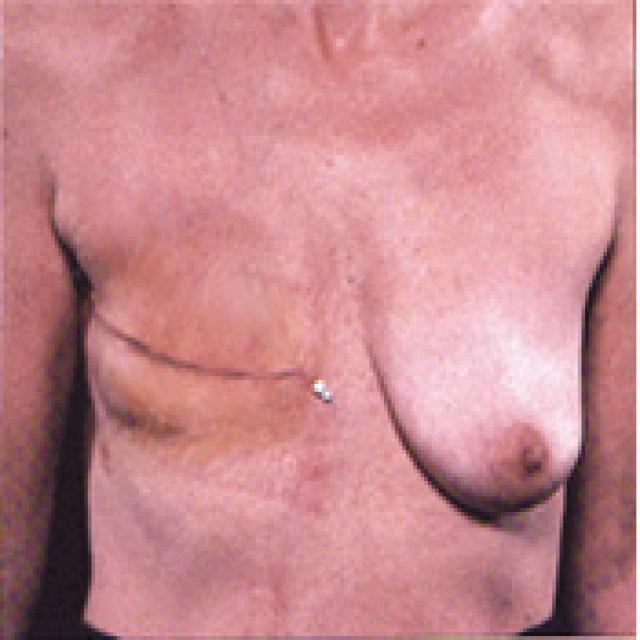Seno herido: (77, 247, 349, 489)
Seno ileso: (355, 237, 595, 548)
